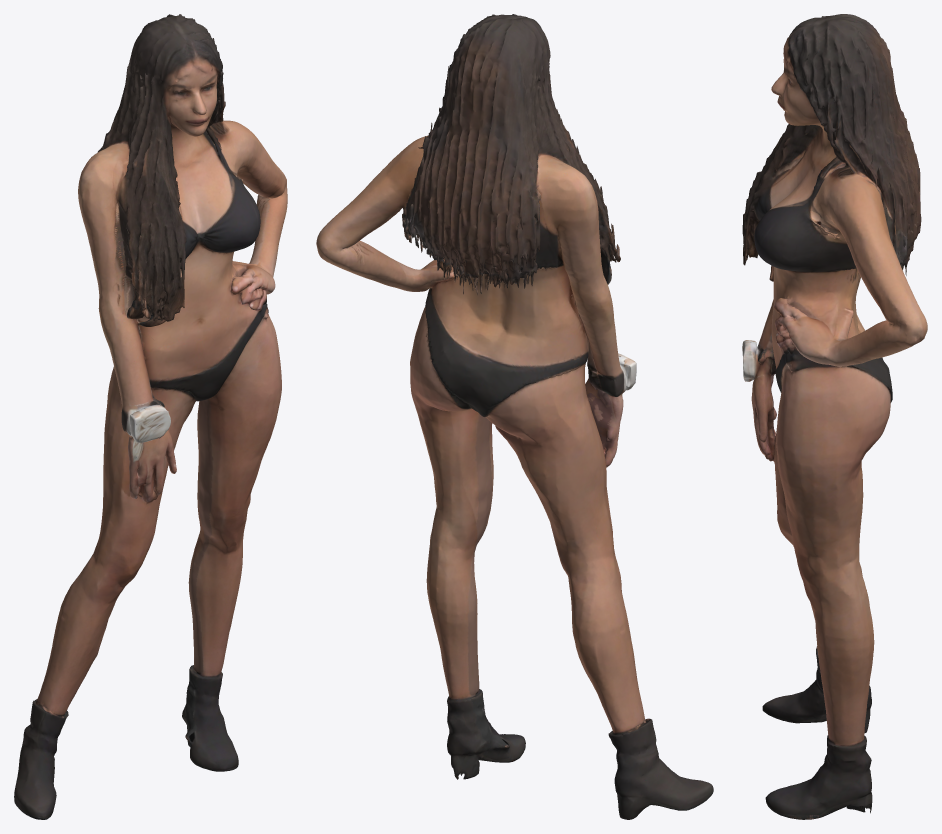
Rendered from Mulher-modelo-bikini-preto.glb.
The picture shows the model from 3 angles, left to right: view 1: azimuth 30°, elevation 25°; view 2: azimuth 150°, elevation 25°; view 3: azimuth 270°, elevation 25°; orthographic projection. The views are drawn at different scales.
Size of the model in its own units: 0.9013 by 1.99 by 0.4268.
Materials: 1 (1 with a texture image).
